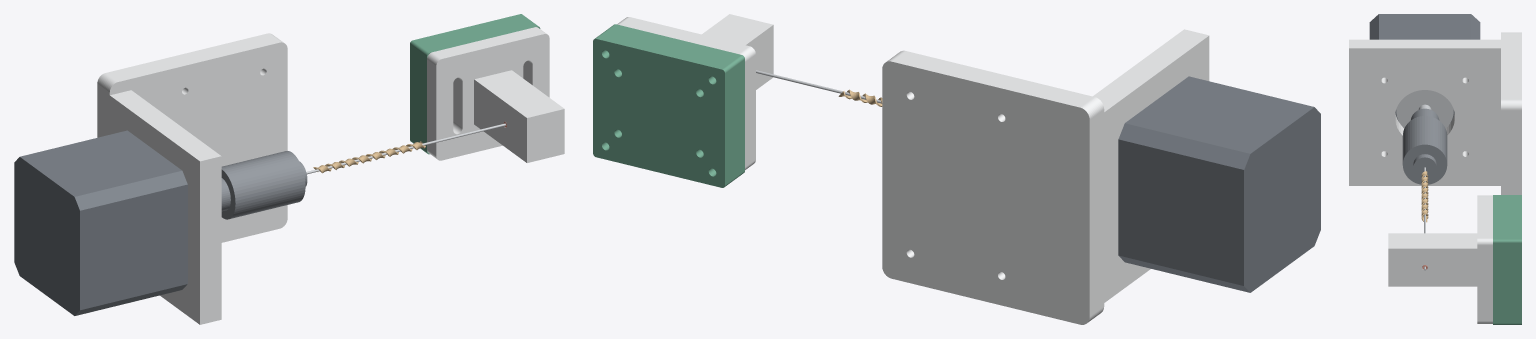
The model's file is rotation_train.glb.
The picture shows the model from 3 angles, left to right: view 1: azimuth 30°, elevation 25°; view 2: azimuth 150°, elevation 25°; view 3: azimuth 270°, elevation 25°; orthographic projection. The views are drawn at different scales.
Visible parts, largest first — view 1: W01_nema17_rotation_mount, motor_rotation_NEMA17, W05_mandrel_end_guide, mini_drill_chuck, W13_w05_axis_riser_11mm, veneer_coil_wound, mandrel_0p8mm_steel; view 2: W01_nema17_rotation_mount, motor_rotation_NEMA17, W13_w05_axis_riser_11mm, W05_mandrel_end_guide; view 3: W01_nema17_rotation_mount, W05_mandrel_end_guide, W13_w05_axis_riser_11mm, motor_rotation_NEMA17, mini_drill_chuck, motor_rotation_shaft, veneer_coil_wound, chuck_adapter_5mm.
Part boxes in pixels (left/top/right/bottom): W01_nema17_rotation_mount: left=97, top=33, right=287, bottom=324; motor_rotation_NEMA17: left=14, top=130, right=187, bottom=315; W05_mandrel_end_guide: left=427, top=27, right=564, bottom=162; mini_drill_chuck: left=221, top=151, right=307, bottom=219; W13_w05_axis_riser_11mm: left=410, top=14, right=540, bottom=154; veneer_coil_wound: left=313, top=141, right=425, bottom=173; mandrel_0p8mm_steel: left=306, top=123, right=505, bottom=174; W01_nema17_rotation_mount: left=882, top=29, right=1209, bottom=324; motor_rotation_NEMA17: left=1118, top=76, right=1320, bottom=292; W13_w05_axis_riser_11mm: left=593, top=24, right=744, bottom=187; W05_mandrel_end_guide: left=617, top=14, right=773, bottom=169; W01_nema17_rotation_mount: left=1349, top=32, right=1521, bottom=194; W05_mandrel_end_guide: left=1388, top=195, right=1492, bottom=323; W13_w05_axis_riser_11mm: left=1493, top=195, right=1521, bottom=324; motor_rotation_NEMA17: left=1369, top=14, right=1480, bottom=122; mini_drill_chuck: left=1402, top=116, right=1447, bottom=184; motor_rotation_shaft: left=1396, top=90, right=1453, bottom=128; veneer_coil_wound: left=1421, top=171, right=1428, bottom=222; chuck_adapter_5mm: left=1410, top=108, right=1439, bottom=120.
Bounding box in the file's own units: 198 × 66 × 66.
